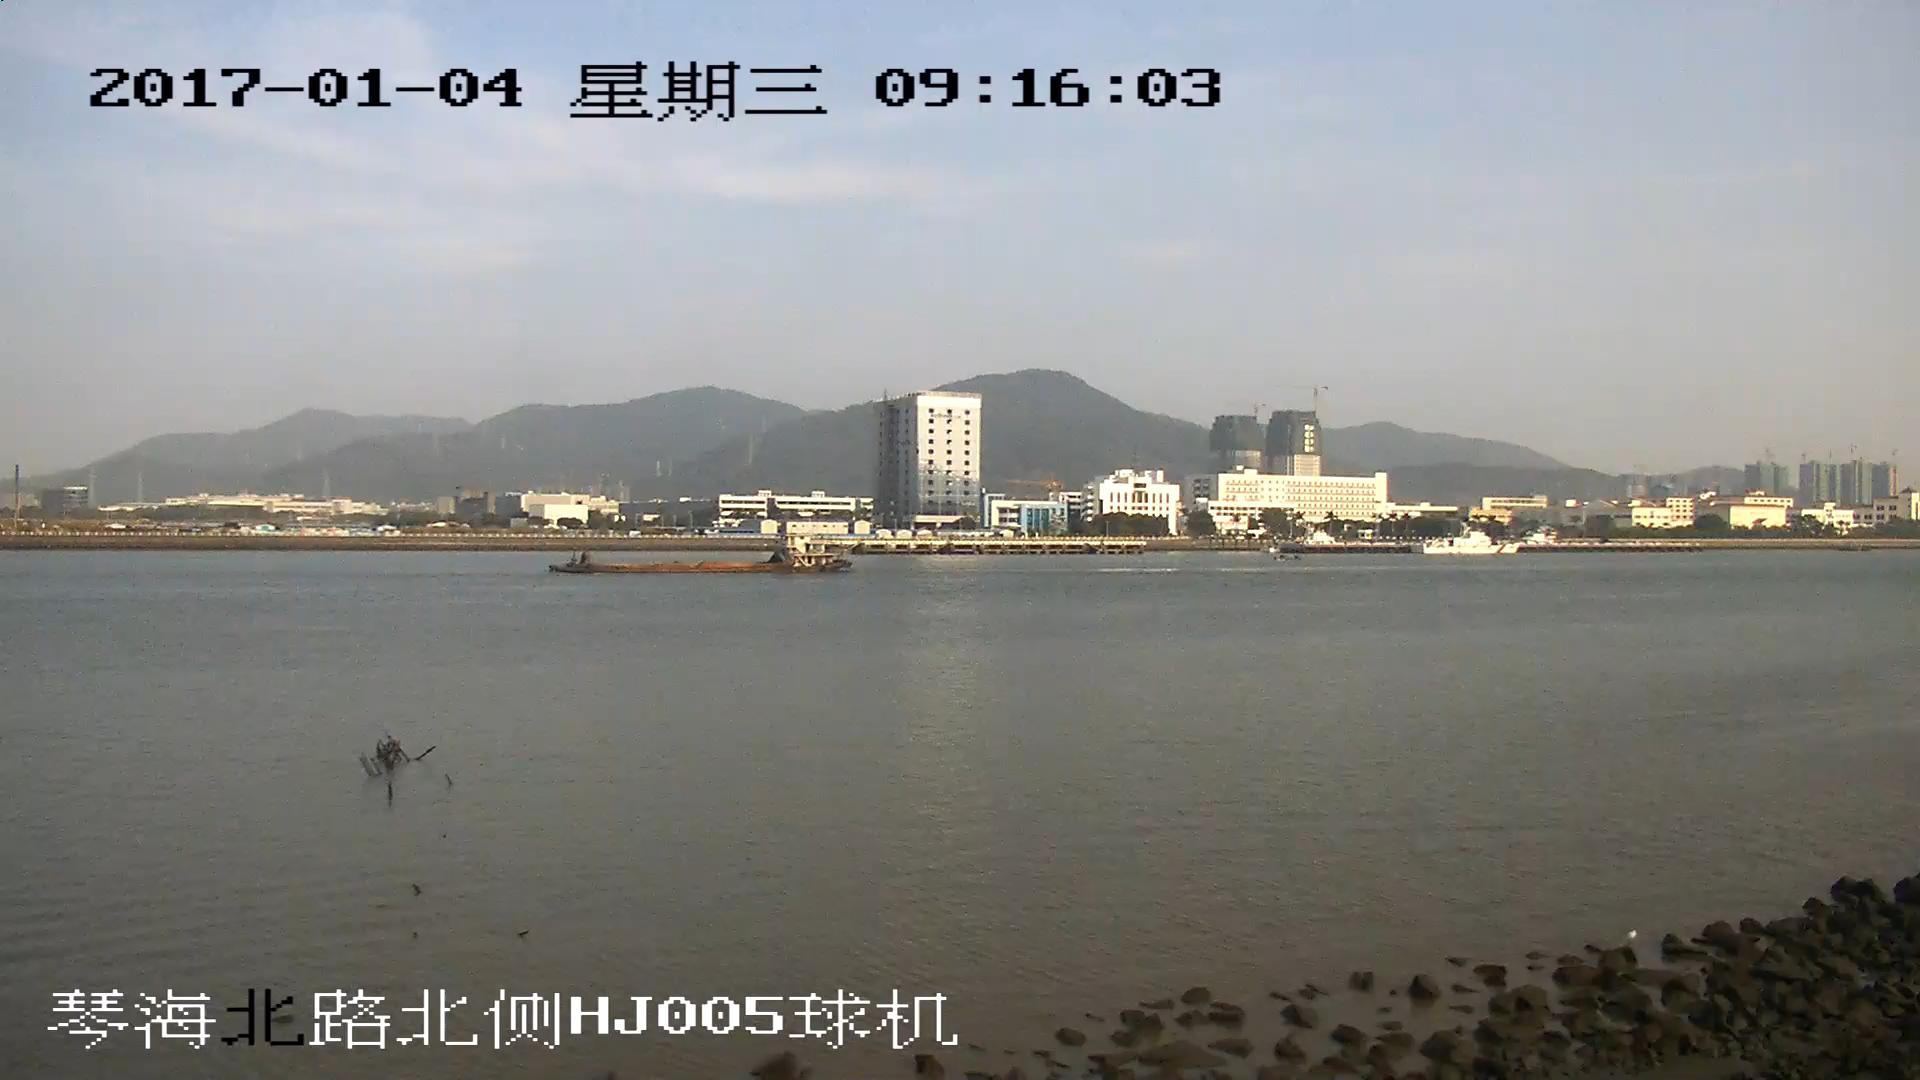ore carrier: (548, 535, 852, 572)
